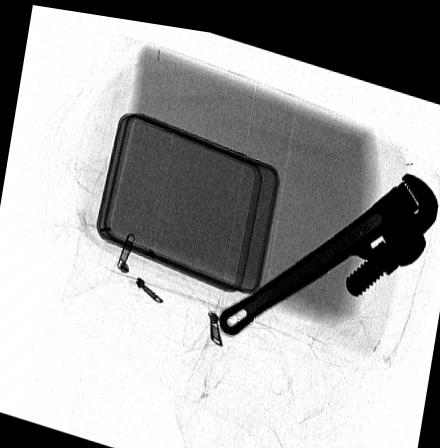Wrench: (217, 158, 440, 328)
